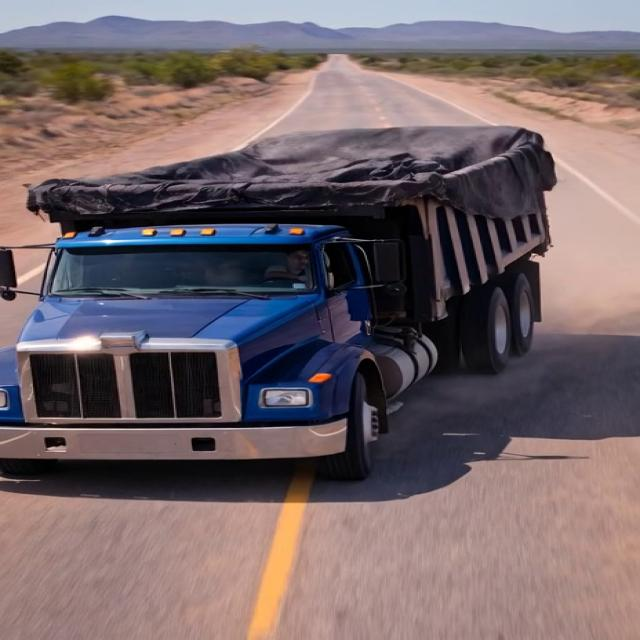trailer: (24, 113, 559, 216)
truck: (8, 86, 600, 480)
